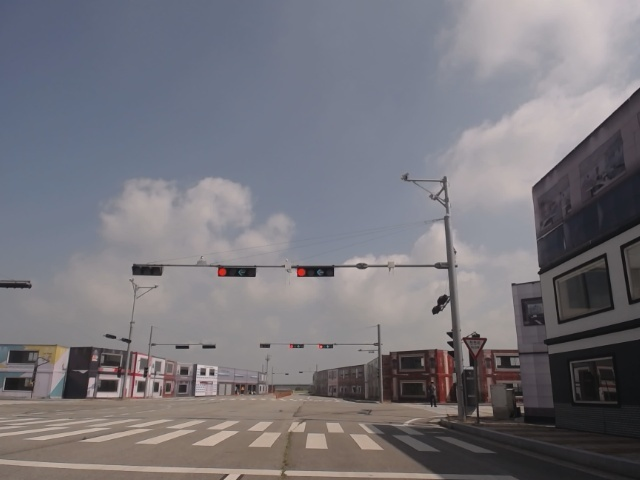left_green_4: (217, 266, 256, 277), (296, 266, 334, 277)
